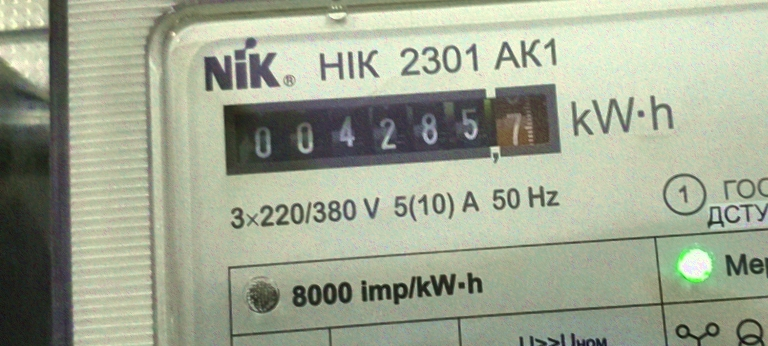0: (292, 117, 316, 155), (250, 121, 273, 158)
2: (376, 113, 397, 150)
4: (336, 111, 355, 147)
5: (457, 103, 480, 140)
7: (502, 108, 523, 146)
8: (416, 108, 439, 146)
screen: (206, 71, 576, 187)
